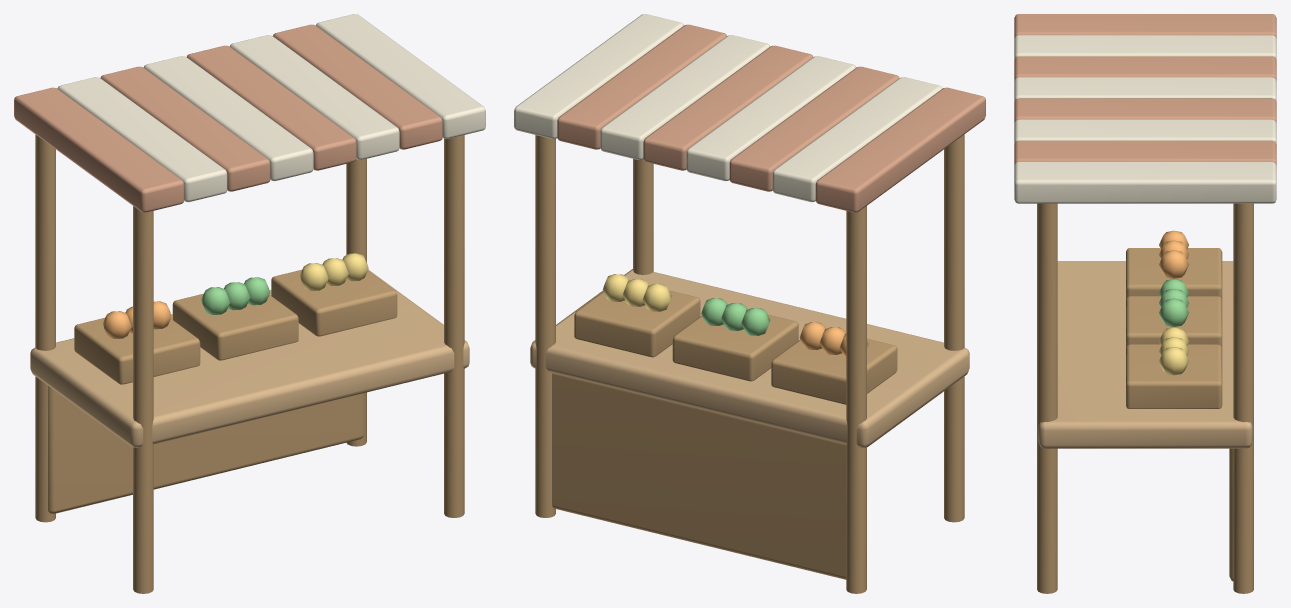
The model's file is trader.glb.
The picture shows the model from 3 angles, left to right: view 1: azimuth 30°, elevation 25°; view 2: azimuth 150°, elevation 25°; view 3: azimuth 270°, elevation 25°; orthographic projection.
Size of the model in its own units: 2.24 by 2.57 by 1.47.
